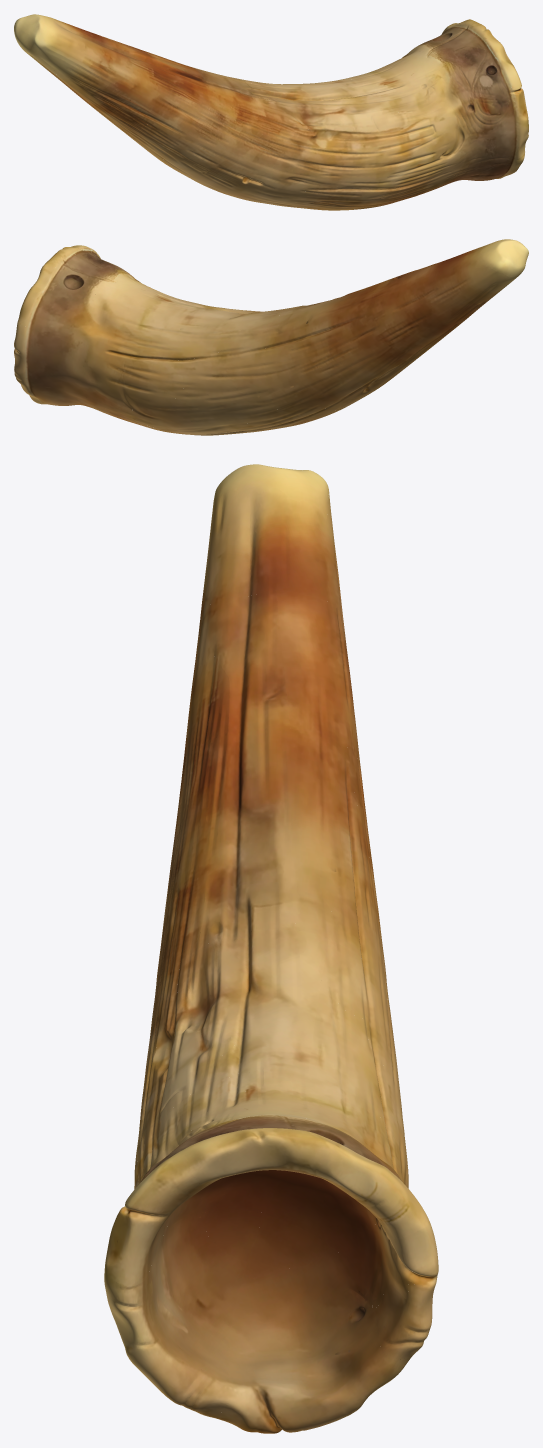
The model's file is shofar.glb.
The picture shows the model from 3 angles, top to bottom: view 1: azimuth 30°, elevation 25°; view 2: azimuth 150°, elevation 25°; view 3: azimuth 270°, elevation 25°; orthographic projection. The views are drawn at different scales.
Visible parts, largest first — view 1: tripo_node_b0148702-6cfa-4e6b-9bfc-59aed63e277f; view 2: tripo_node_b0148702-6cfa-4e6b-9bfc-59aed63e277f; view 3: tripo_node_b0148702-6cfa-4e6b-9bfc-59aed63e277f.
Boxes of the visible parts, <box> form: tripo_node_b0148702-6cfa-4e6b-9bfc-59aed63e277f: <box>14,14,528,210</box>; tripo_node_b0148702-6cfa-4e6b-9bfc-59aed63e277f: <box>14,239,528,435</box>; tripo_node_b0148702-6cfa-4e6b-9bfc-59aed63e277f: <box>104,464,438,1433</box>.
Bounding box in the file's own units: 0.981 × 0.5262 × 0.3004.
Materials: 1 (1 with a texture image).
